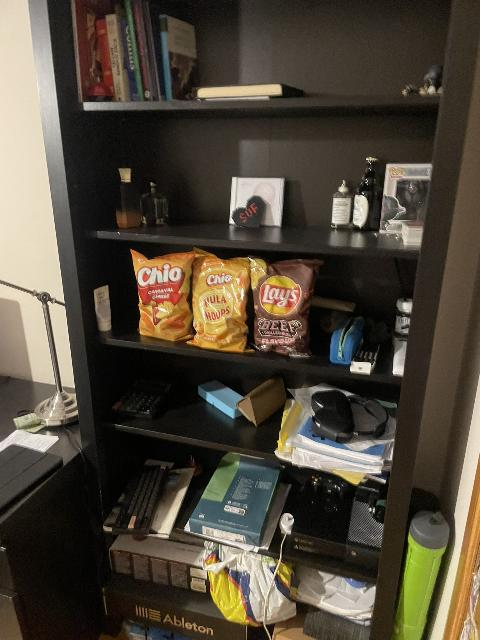Chio Cascaval 125g: (130, 248, 196, 344)
Chio Hula Hoops Cheese 70g: (188, 249, 255, 353)
Lays Beef Grilled Ribs 125g: (251, 257, 322, 357)
